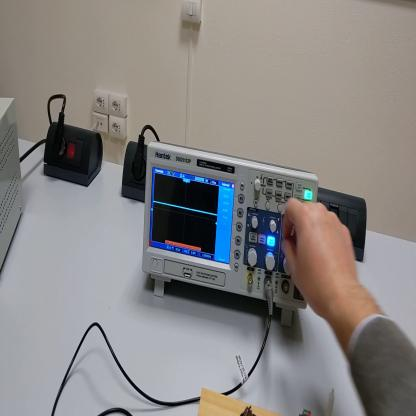hand: (282, 197, 360, 318)
oscilloscope: (143, 142, 320, 328)
power supply: (1, 98, 26, 284)
socket: (41, 120, 103, 189), (123, 140, 147, 203)
working area: (198, 388, 292, 414)
